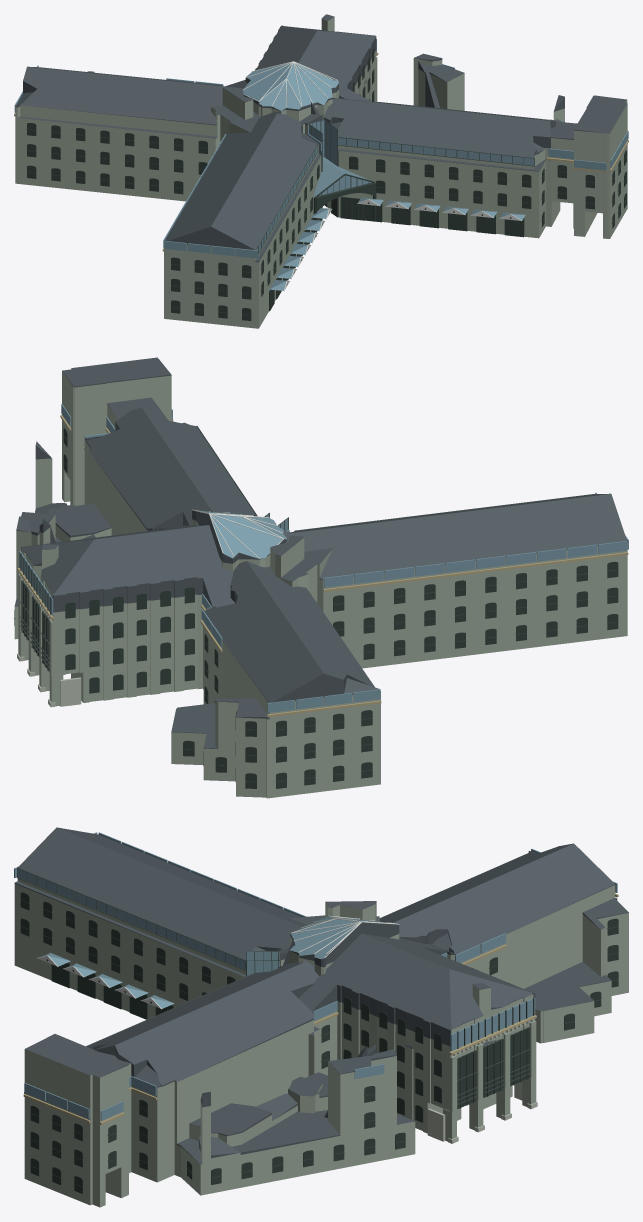
The model's file is max-euwe-centrum.glb.
The picture shows the model from 3 angles, top to bottom: view 1: azimuth 30°, elevation 25°; view 2: azimuth 150°, elevation 25°; view 3: azimuth 270°, elevation 25°; orthographic projection. The views are drawn at different scales.
Parts seen in each view (by area): view 1: max-euwe-centrum; view 2: max-euwe-centrum; view 3: max-euwe-centrum.
Boxes of the visible parts, x1=… form: max-euwe-centrum: x1=14, y1=14, x2=628, y2=328; max-euwe-centrum: x1=14, y1=357, x2=628, y2=798; max-euwe-centrum: x1=14, y1=827, x2=628, y2=1207.
Bounding box in the file's own units: 73.49 × 18.31 × 68.26.
